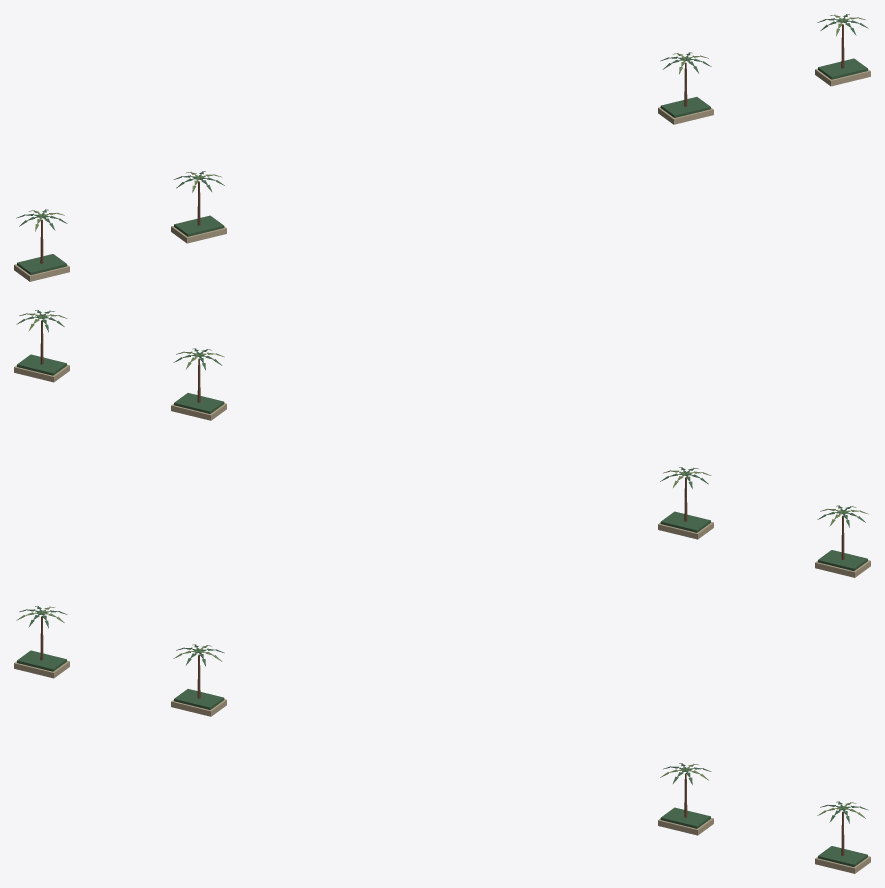
The model's file is KOL_T1_JW__Landscape.fbx.
3 views of the same model, one above another, from view 1: azimuth 30°, elevation 25°; view 2: azimuth 150°, elevation 25°; view 3: azimuth 330°, elevation 25° (orthographic).
Visible parts, largest first — view 1: KOL_T1_JW__Landscape__KOL_T1_Leaf, KOL_T1_JW__Landscape__KOL_T1_Stone, KOL_T1_JW__Landscape__KOL_T1_Louvre; view 2: KOL_T1_JW__Landscape__KOL_T1_Leaf, KOL_T1_JW__Landscape__KOL_T1_Stone, KOL_T1_JW__Landscape__KOL_T1_Louvre, KOL_T1_JW__Landscape__KOL_T1_LeafLight; view 3: KOL_T1_JW__Landscape__KOL_T1_Leaf, KOL_T1_JW__Landscape__KOL_T1_Stone, KOL_T1_JW__Landscape__KOL_T1_Louvre.
Part boxes in pixels (x1,y1,x2,y2): KOL_T1_JW__Landscape__KOL_T1_Leaf: (16,14,868,274); KOL_T1_JW__Landscape__KOL_T1_Stone: (14,68,870,281); KOL_T1_JW__Landscape__KOL_T1_Louvre: (40,24,844,263); KOL_T1_JW__Landscape__KOL_T1_Leaf: (16,310,867,570); KOL_T1_JW__Landscape__KOL_T1_Stone: (14,364,870,577); KOL_T1_JW__Landscape__KOL_T1_Louvre: (40,320,844,559); KOL_T1_JW__Landscape__KOL_T1_LeafLight: (19,313,868,526); KOL_T1_JW__Landscape__KOL_T1_Leaf: (17,606,868,866); KOL_T1_JW__Landscape__KOL_T1_Stone: (14,660,870,873); KOL_T1_JW__Landscape__KOL_T1_Louvre: (40,616,844,855).
Bounding box in the file's own units: 275 × 17.25 × 15.
